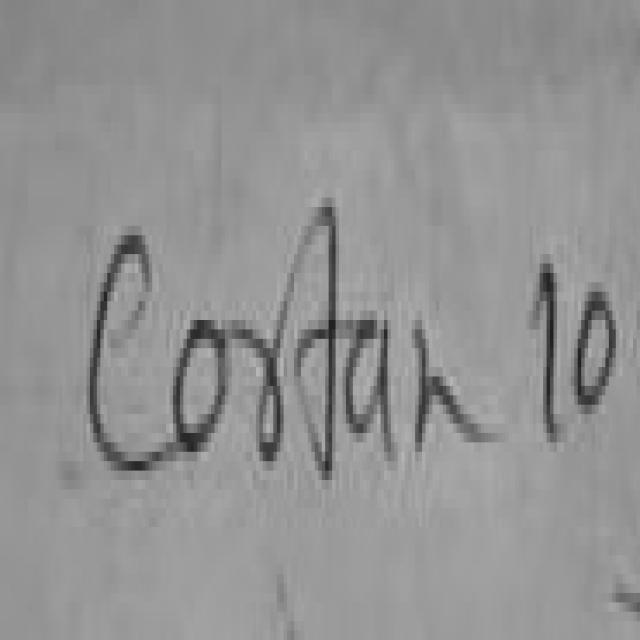0: (578, 292, 619, 405)
1: (543, 264, 557, 442)
C: (90, 235, 152, 471)
a: (346, 320, 394, 452)
n: (415, 329, 491, 447)
o: (176, 320, 228, 452)
r: (234, 292, 291, 461)
t: (298, 207, 359, 480)
